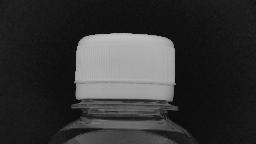Good Cap: (70, 30, 180, 115)
